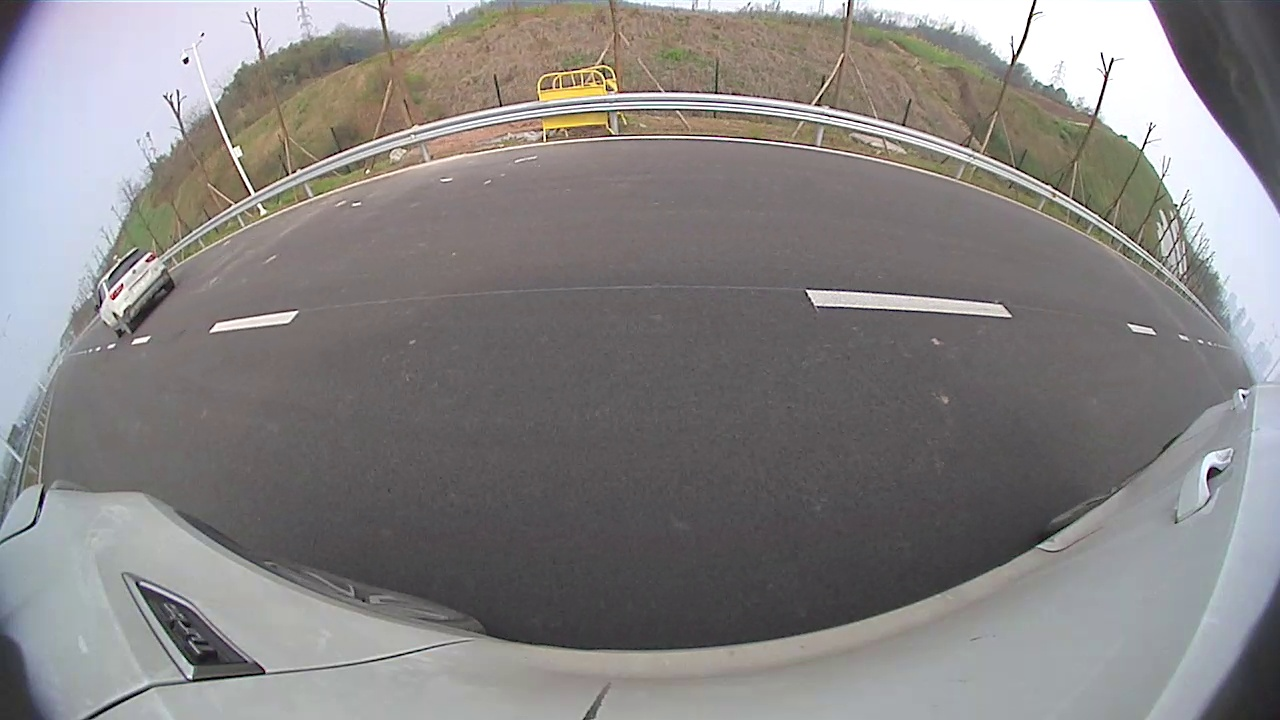car: (126, 97, 398, 285)
front: (230, 202, 284, 262)
rear: (142, 244, 177, 284)
